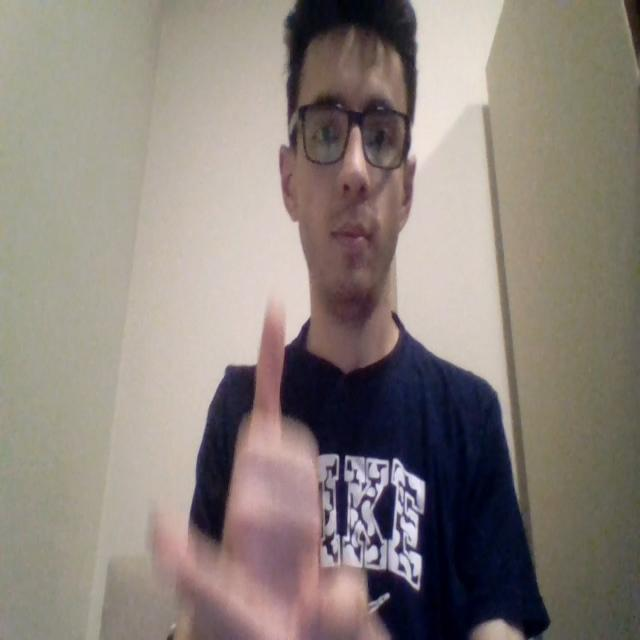help: (151, 289, 391, 640)
